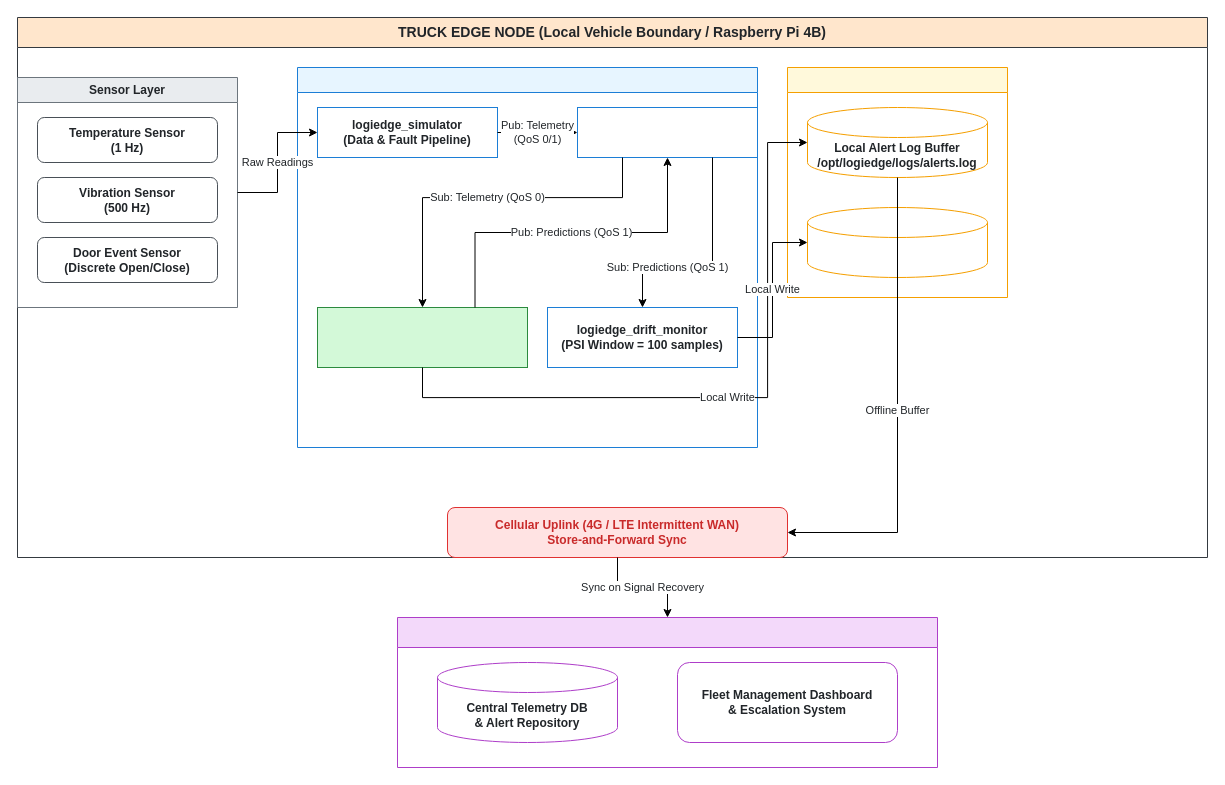
Some shapes in this 1225 by 785 pixel diagram are drawn without their labels. Here are the shapes that lost their labels. From the top down, the box of each, then its label:
(576, 106, 758, 158): logiedge_mqtt (Mosquitto Broker)
(786, 66, 1008, 298): Local Persistent Storage
(296, 66, 758, 448): Docker Bridge Network (logiedge_net)
(806, 206, 988, 278): Local Drift Log /opt/logiedge/logs/drift.log
(316, 306, 528, 368): logiedge_inference (Feature Fusion + M2 INT8 TFLite)
(396, 616, 938, 768): OPERATIONS CENTRE BACKEND
